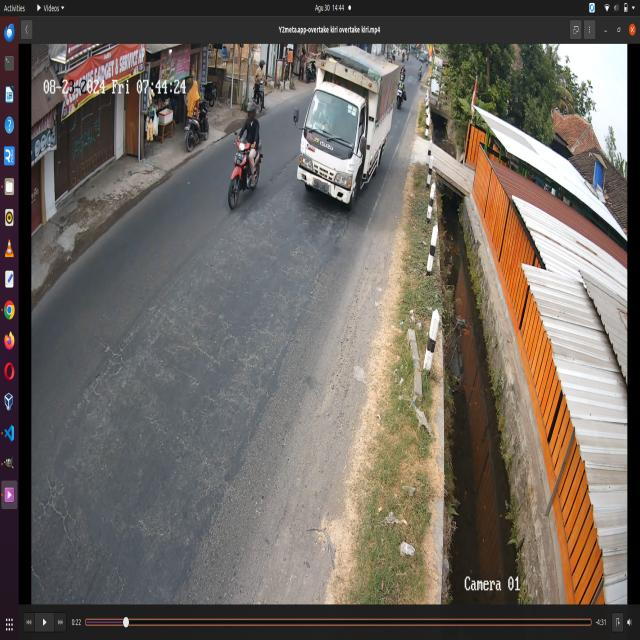person_with_seatbelt: (314, 98, 339, 136)
